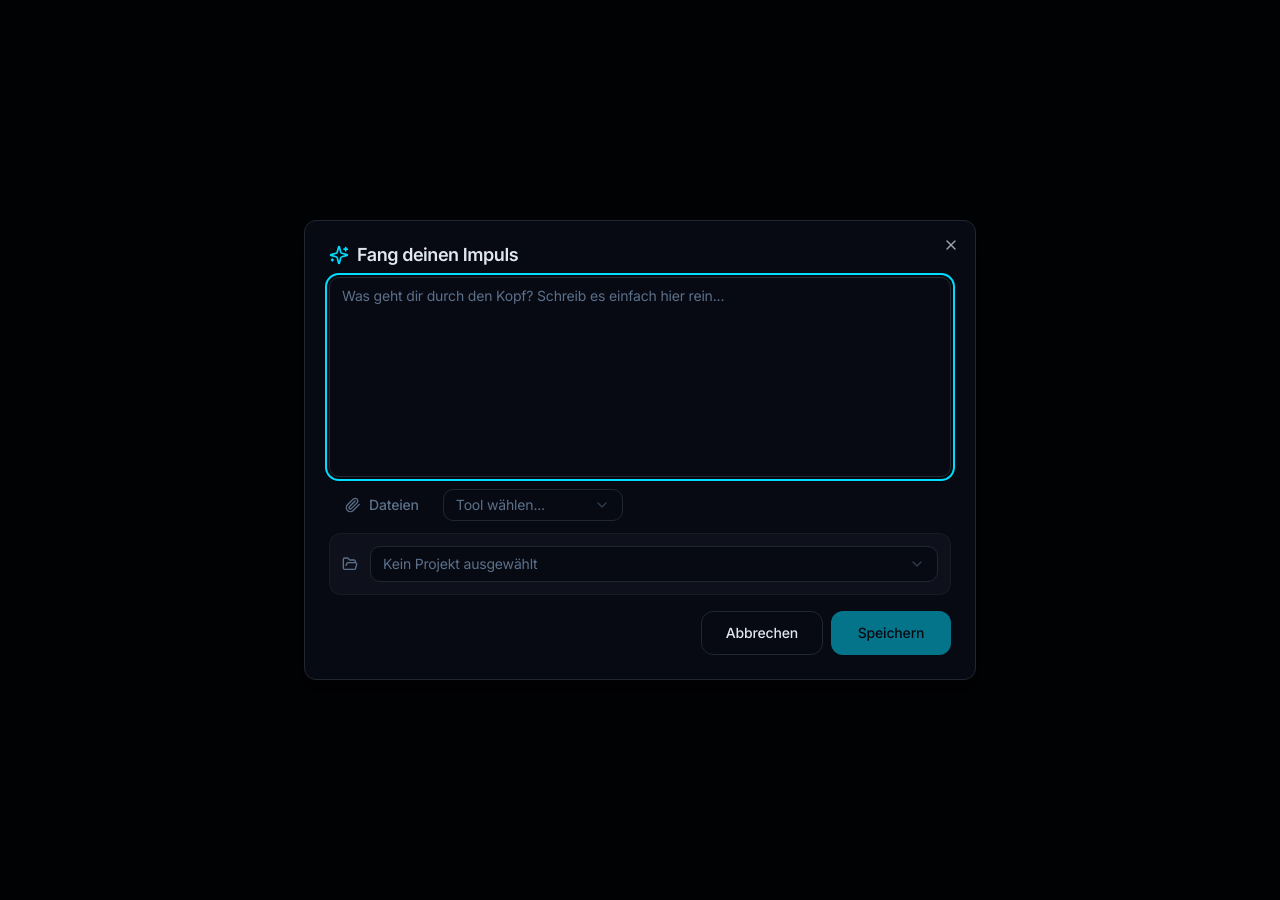
Test: ImpulseCatcher › should toggle tags
Type "Test content for AI tags" into the text box with placeholder "Was geht dir durch den Kopf".
click(640, 377); type("Test content for AI tags")  # box [329,277,951,477]
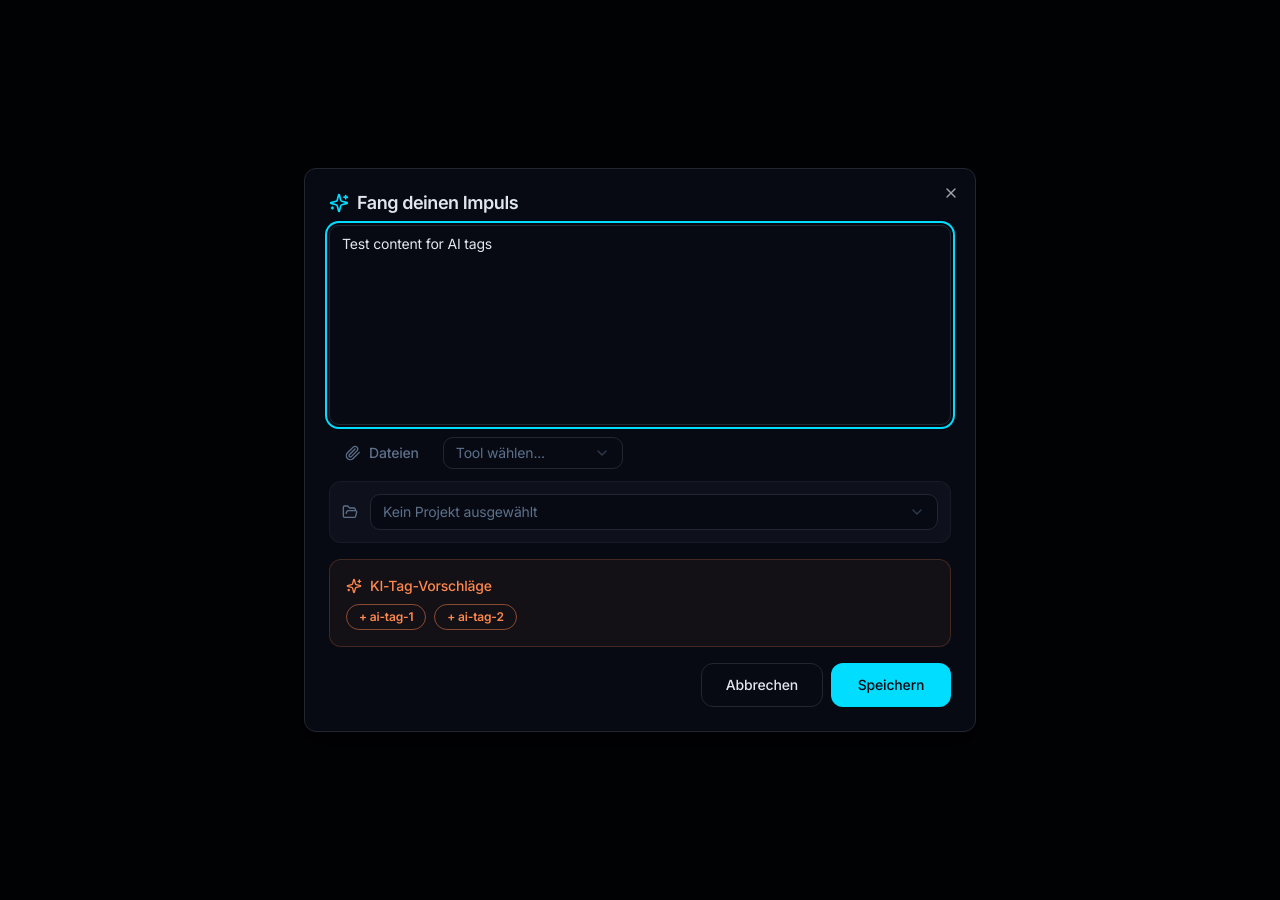
Click the text "+ ai-tag-1".
click(386, 617)  # box [346,604,426,630]
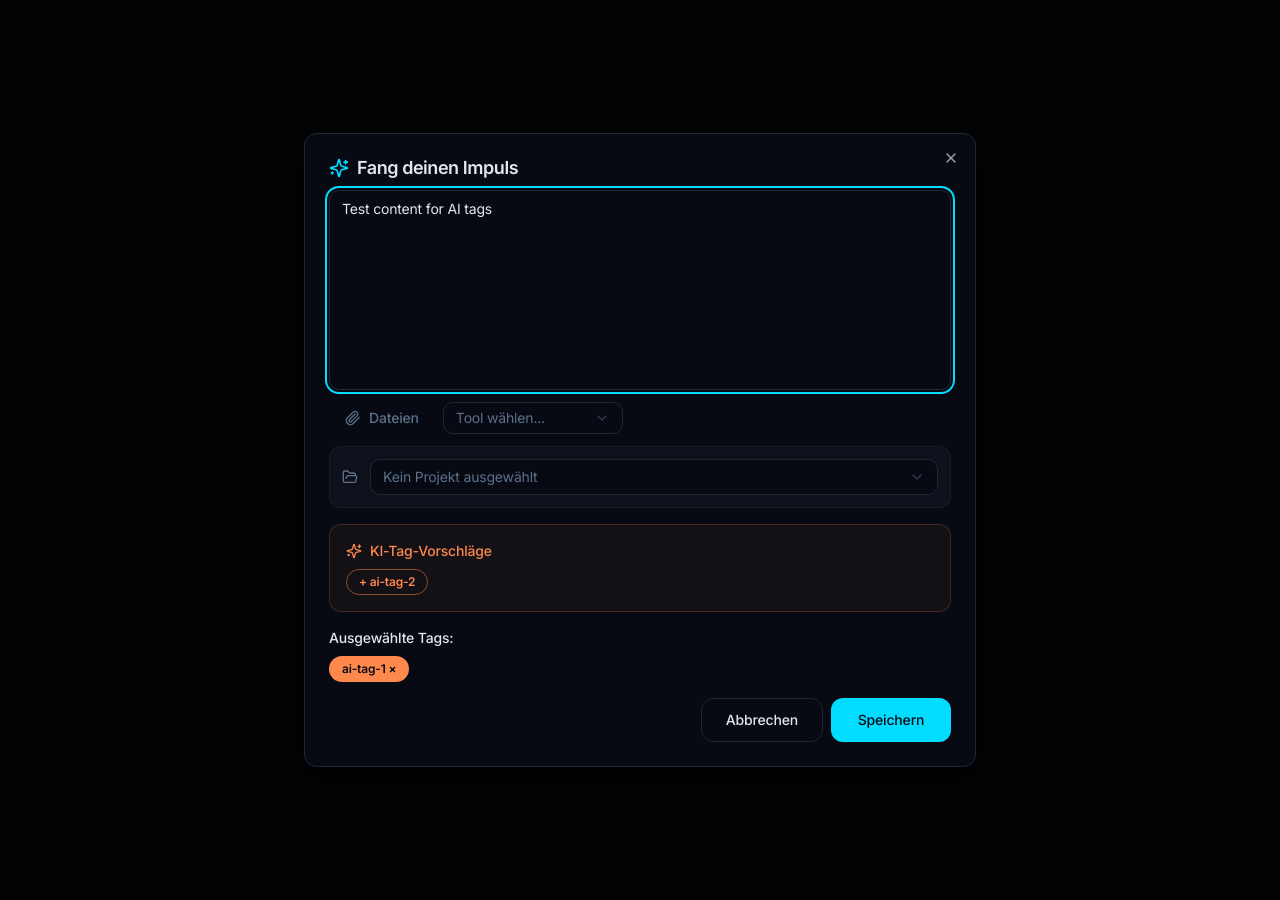
Check: the text "ai-tag-1 ×" is shown, box [329,656,409,682]
